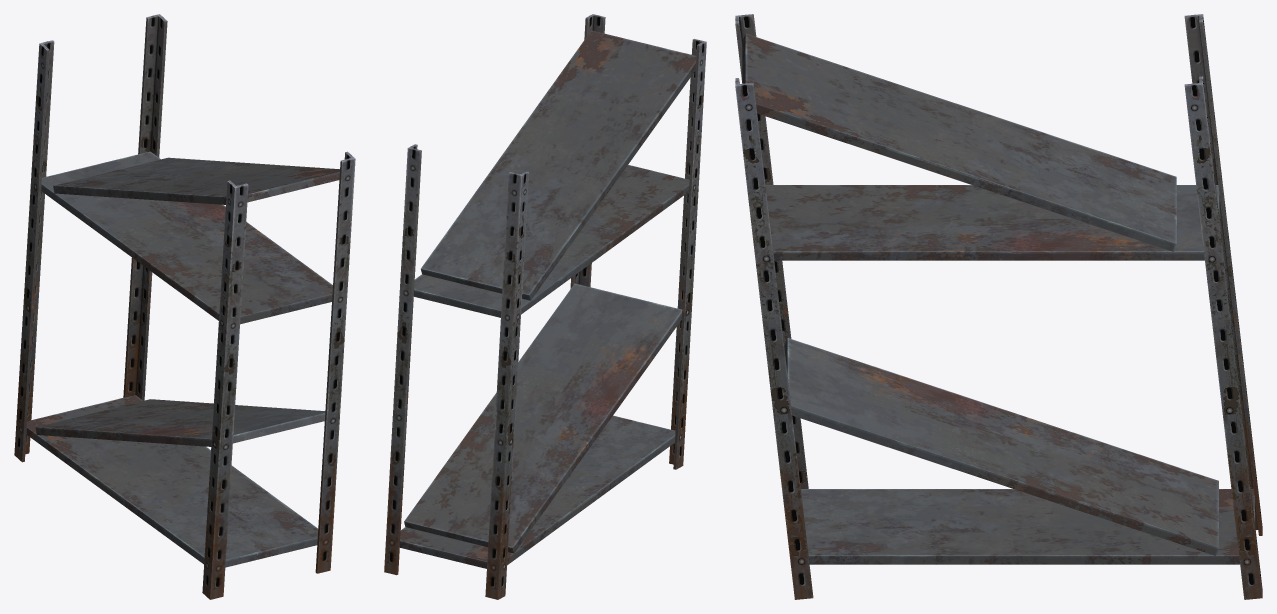
File: metalShelf02_B2.fbx
3 views of the same model, side by side, from view 1: azimuth 30°, elevation 25°; view 2: azimuth 150°, elevation 25°; view 3: azimuth 270°, elevation 25° (orthographic). The views are drawn at different scales.
Visible parts, largest first — view 1: metalShelf02_B2; view 2: metalShelf02_B2; view 3: metalShelf02_B2.
Boxes of the visible parts, x1,y1,x2,y2 form: metalShelf02_B2: (14, 14, 355, 599); metalShelf02_B2: (384, 14, 706, 599); metalShelf02_B2: (735, 14, 1262, 599).
Bounding box in the file's own units: 52.5 × 180 × 167.
